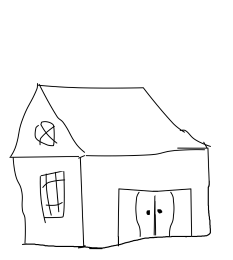bottom_placed_house: (2, 1, 233, 260)
closed_window: (34, 168, 70, 226), (28, 119, 61, 154)
door: (112, 179, 202, 245)
roof: (8, 67, 223, 162)
wall: (78, 141, 215, 253)
